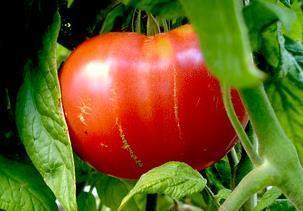tomato: (57, 23, 248, 179)
